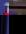potion: (0, 0, 9, 15)
wood: (9, 15, 26, 34)
